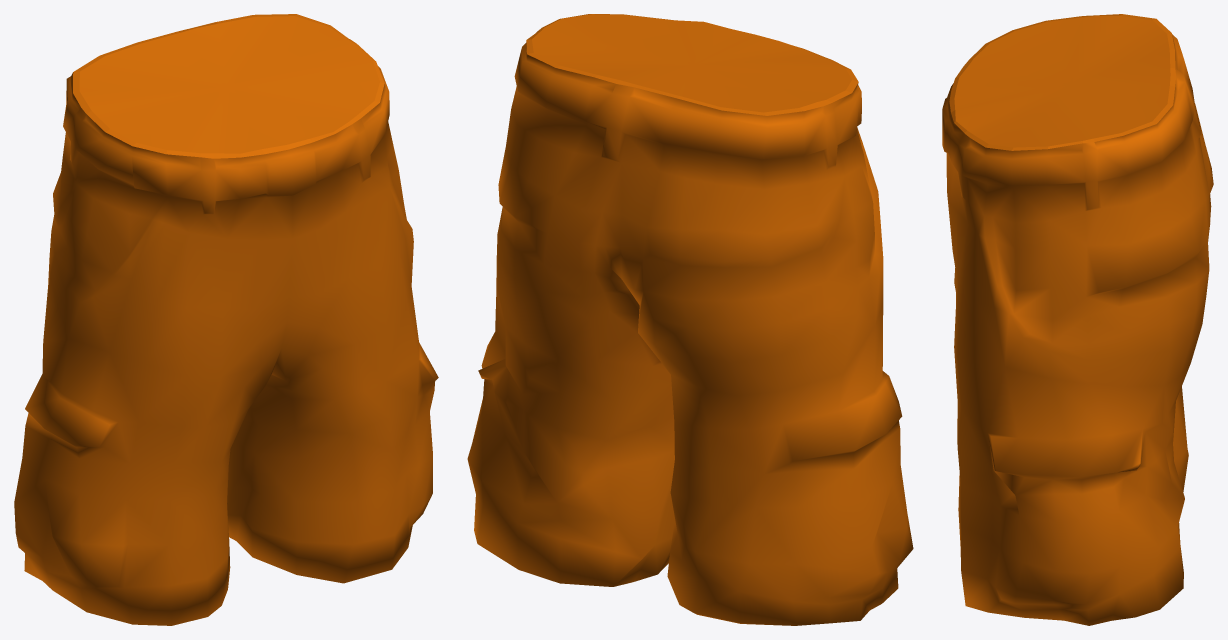
3 views of the same model, side by side, from view 1: azimuth 30°, elevation 25°; view 2: azimuth 150°, elevation 25°; view 3: azimuth 270°, elevation 25° (orthographic). The views are drawn at different scales.
Parts seen in each view (by area): view 1: hash_83FA4FF4.model; view 2: hash_83FA4FF4.model; view 3: hash_83FA4FF4.model.
Boxes of the visible parts, box(x1,y1,x2,y2) form: hash_83FA4FF4.model: box(14, 14, 438, 625); hash_83FA4FF4.model: box(467, 14, 913, 625); hash_83FA4FF4.model: box(942, 14, 1213, 625).
Bounding box in the file's own units: 0.4803 × 0.5871 × 0.2914.
